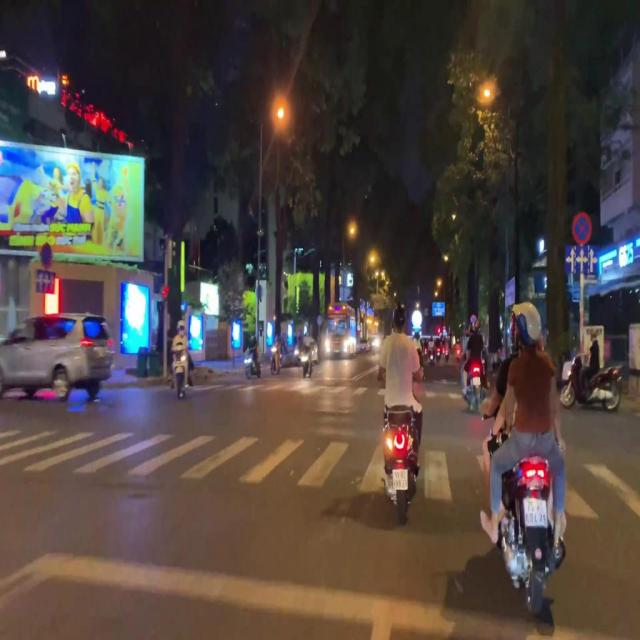cam_dung_xe_va_do_xe: (572, 212, 592, 244)
huong_di_tren_moi_lan_duong_theo_vach_ke_duong: (566, 244, 600, 277)
